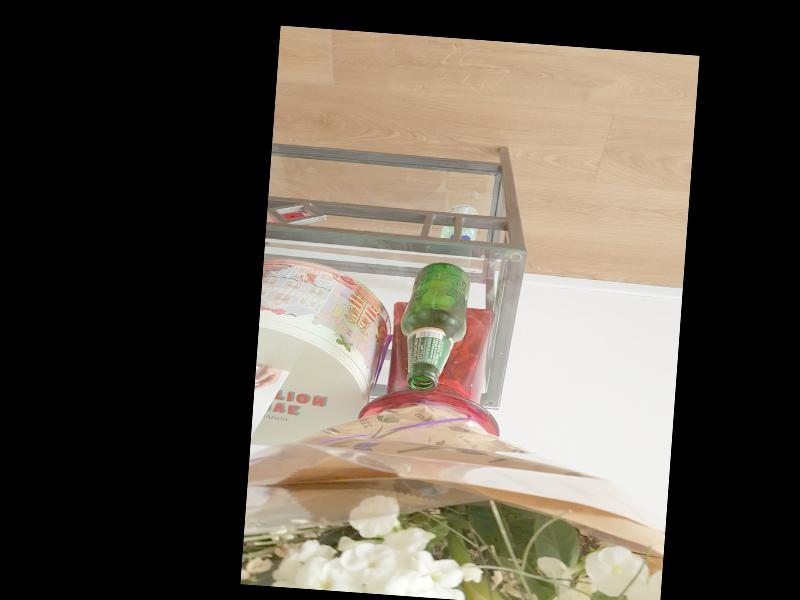Beer: (396, 258, 472, 392)
